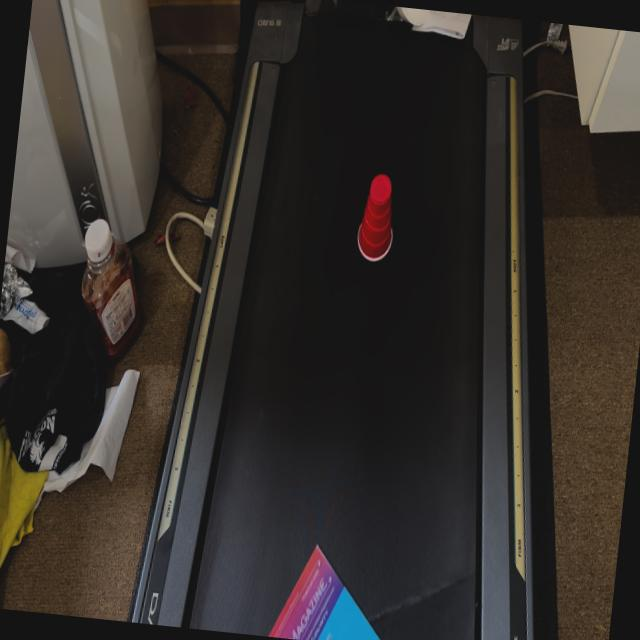Recycle: (275, 532, 409, 640), (352, 172, 412, 270)
